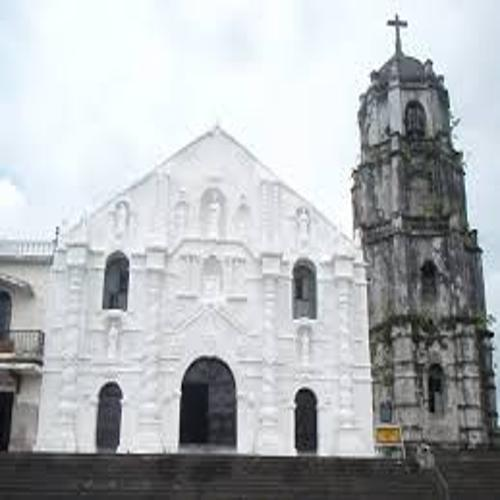Daraga Church: (53, 11, 497, 466)
